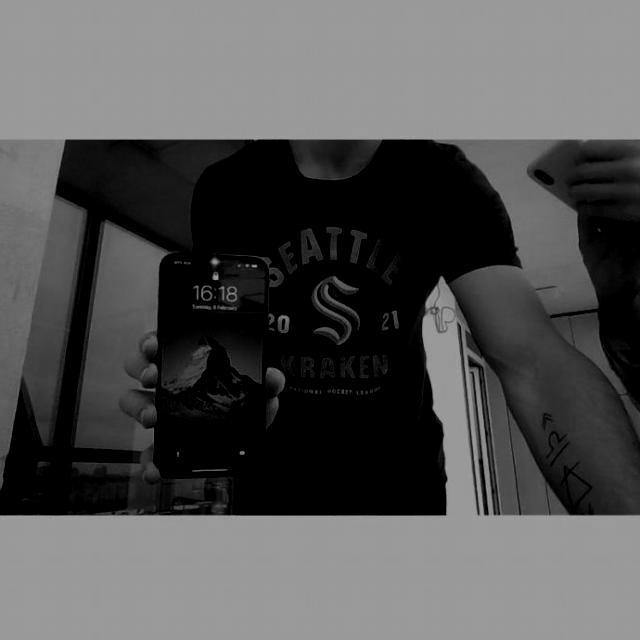fake: (143, 250, 281, 480)
